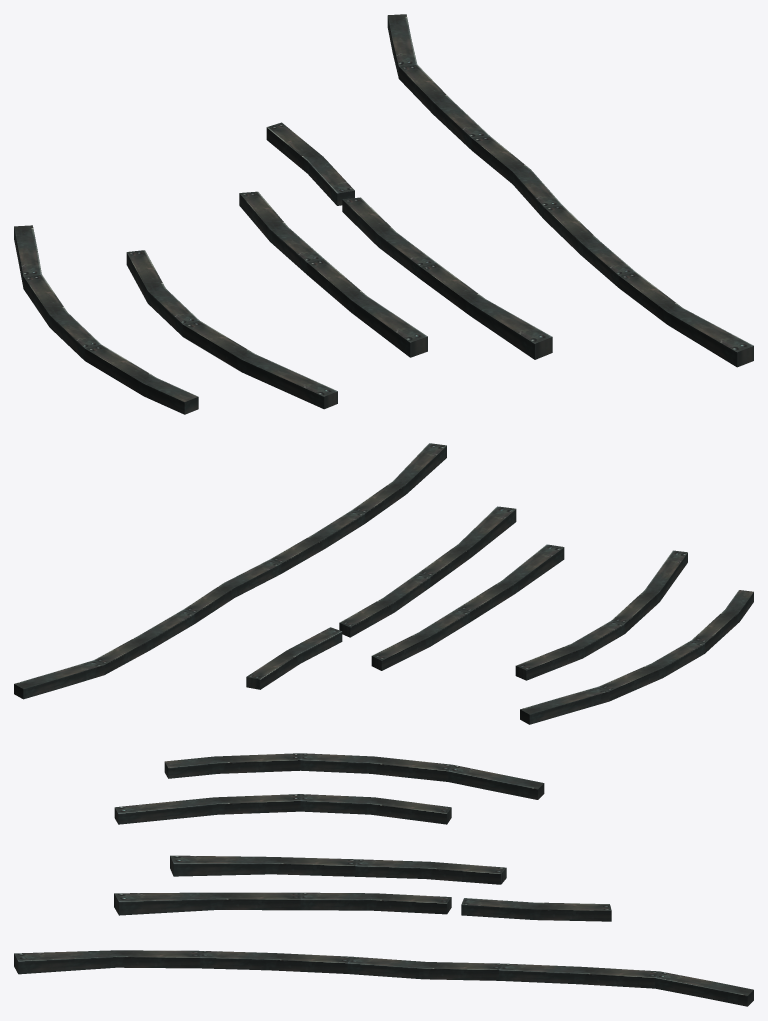
Rendered from FB6_tiegui01.FBX.
3 renders of one model, top to bottom at view 1: azimuth 30°, elevation 25°; view 2: azimuth 150°, elevation 25°; view 3: azimuth 270°, elevation 25°, orthographic. The views are drawn at different scales.
Parts seen in each view (by area): view 1: FB6_tiegui01_006, FB6_tiegui01_003, FB6_tiegui01_001, FB6_tiegui01_002, FB6_tiegui01_004, FB6_tiegui01_005; view 2: FB6_tiegui01_006, FB6_tiegui01_001, FB6_tiegui01_004, FB6_tiegui01_003, FB6_tiegui01_002, FB6_tiegui01_005; view 3: FB6_tiegui01_006, FB6_tiegui01_001, FB6_tiegui01_003, FB6_tiegui01_004, FB6_tiegui01_002, FB6_tiegui01_005.
Boxes of the visible parts, left/top/right/bottom form: FB6_tiegui01_006: left=387, top=14, right=753, bottom=367; FB6_tiegui01_003: left=342, top=197, right=552, bottom=359; FB6_tiegui01_001: left=14, top=225, right=198, bottom=414; FB6_tiegui01_002: left=126, top=250, right=337, bottom=409; FB6_tiegui01_004: left=239, top=191, right=427, bottom=357; FB6_tiegui01_005: left=266, top=122, right=354, bottom=205; FB6_tiegui01_006: left=14, top=443, right=446, bottom=699; FB6_tiegui01_001: left=520, top=590, right=753, bottom=724; FB6_tiegui01_004: left=371, top=544, right=564, bottom=670; FB6_tiegui01_003: left=339, top=506, right=516, bottom=637; FB6_tiegui01_002: left=515, top=550, right=687, bottom=680; FB6_tiegui01_005: left=246, top=627, right=342, bottom=689; FB6_tiegui01_006: left=14, top=950, right=753, bottom=1006; FB6_tiegui01_001: left=164, top=753, right=544, bottom=799; FB6_tiegui01_003: left=114, top=892, right=451, bottom=915; FB6_tiegui01_004: left=170, top=855, right=506, bottom=884; FB6_tiegui01_002: left=114, top=794, right=451, bottom=824; FB6_tiegui01_005: left=461, top=898, right=611, bottom=921.
Bounding box in the file's own units: 1359 × 35.91 × 1750.
1 material, 1 textured.
